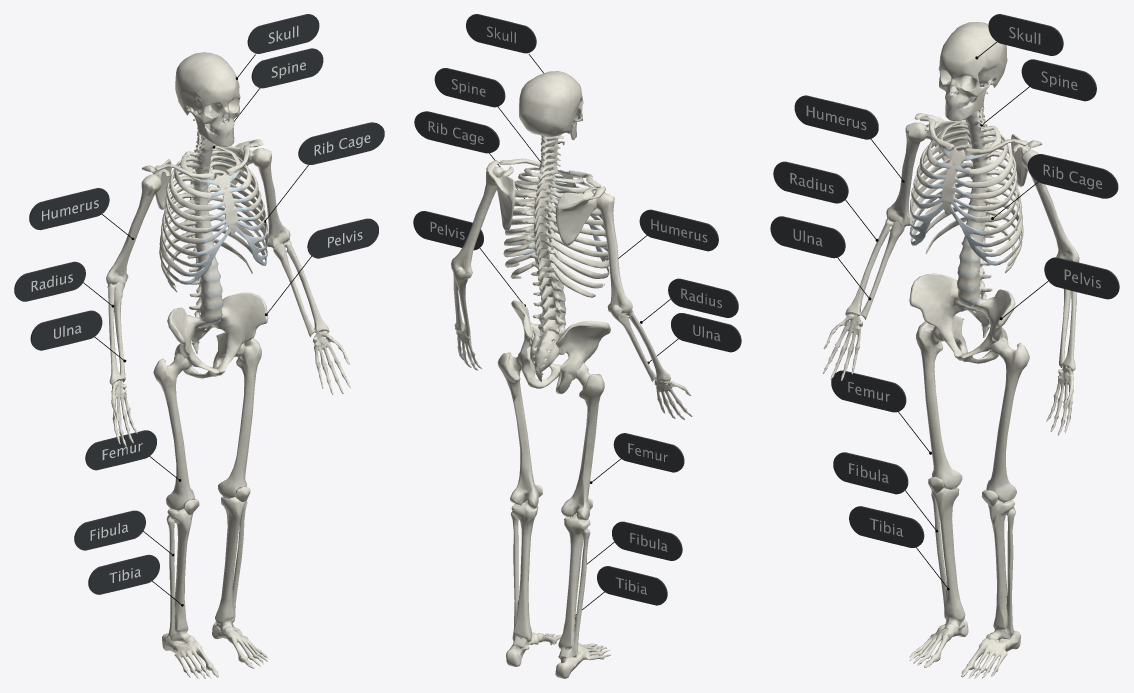
File: skeletal-system.glb
3 renders of one model, left to right at view 1: azimuth 30°, elevation 25°; view 2: azimuth 150°, elevation 25°; view 3: azimuth 330°, elevation 25°, orthographic. The views are drawn at different scales.
Visible parts, largest first — view 1: SkeletonV2, LabelGroup3; view 2: SkeletonV2, LabelGroup3; view 3: SkeletonV2, LabelGroup3.
Part boxes in pixels (box(x1,y1,x2,y2)): SkeletonV2: box(106, 52, 350, 678); LabelGroup3: box(14, 14, 384, 606); SkeletonV2: box(451, 71, 692, 678); LabelGroup3: box(413, 14, 741, 615); SkeletonV2: box(822, 22, 1079, 678); LabelGroup3: box(770, 14, 1119, 590).
Bounding box in the file's own units: 1.09 × 1.87 × 0.2566.
4 materials, 1 textured.
